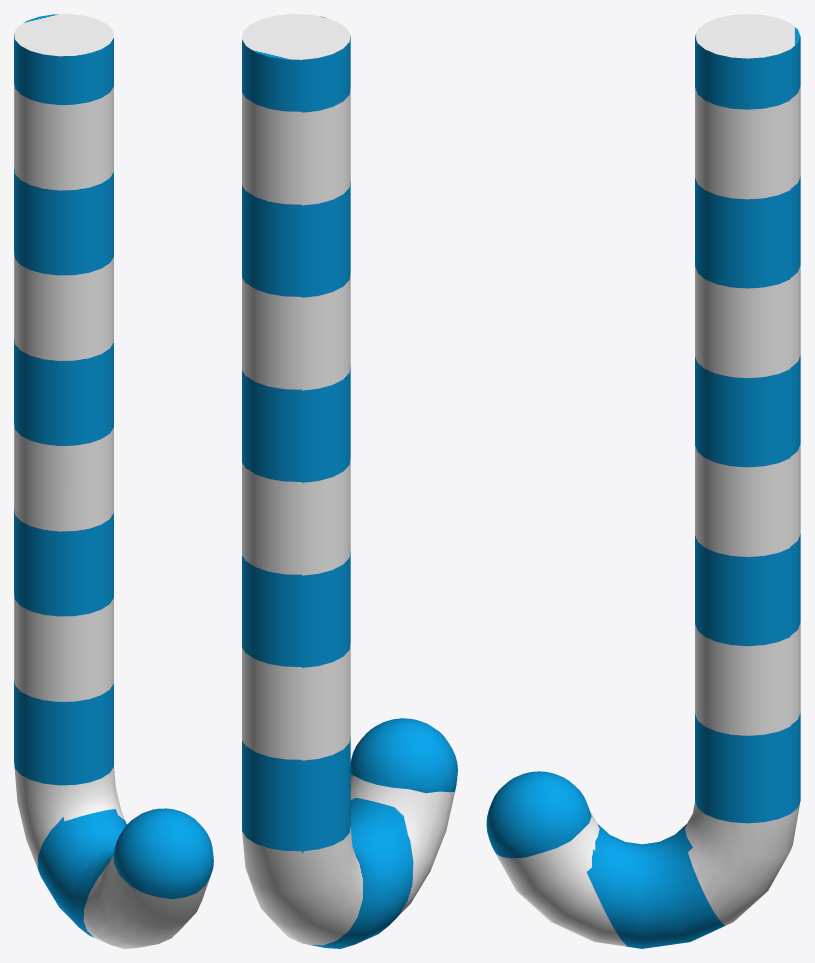
The model's file is lightbluestick.fbx.
3 views of the same model, side by side, from view 1: azimuth 30°, elevation 25°; view 2: azimuth 150°, elevation 25°; view 3: azimuth 270°, elevation 25° (orthographic). The views are drawn at different scales.
Visible parts, largest first — view 1: pSphere3; view 2: pSphere3; view 3: pSphere3.
Boxes of the visible parts, x1,y1,x2,y2 form: pSphere3: (14,14,213,948); pSphere3: (242,14,457,948); pSphere3: (486,14,800,948).
Size of the model in its own units: 2.01 by 19 by 5.95.
Materials: 1 (1 with a texture image).
